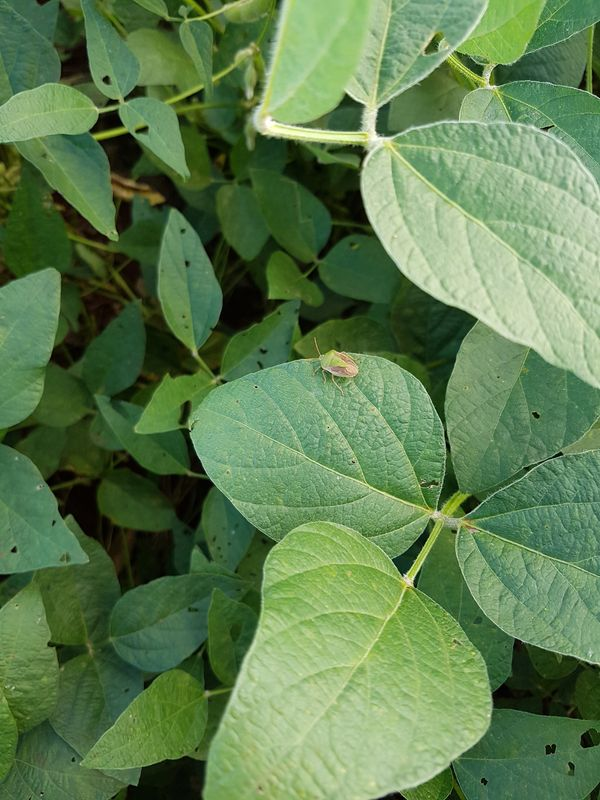Euschistus_heros_adulto: (295, 333, 369, 394)
